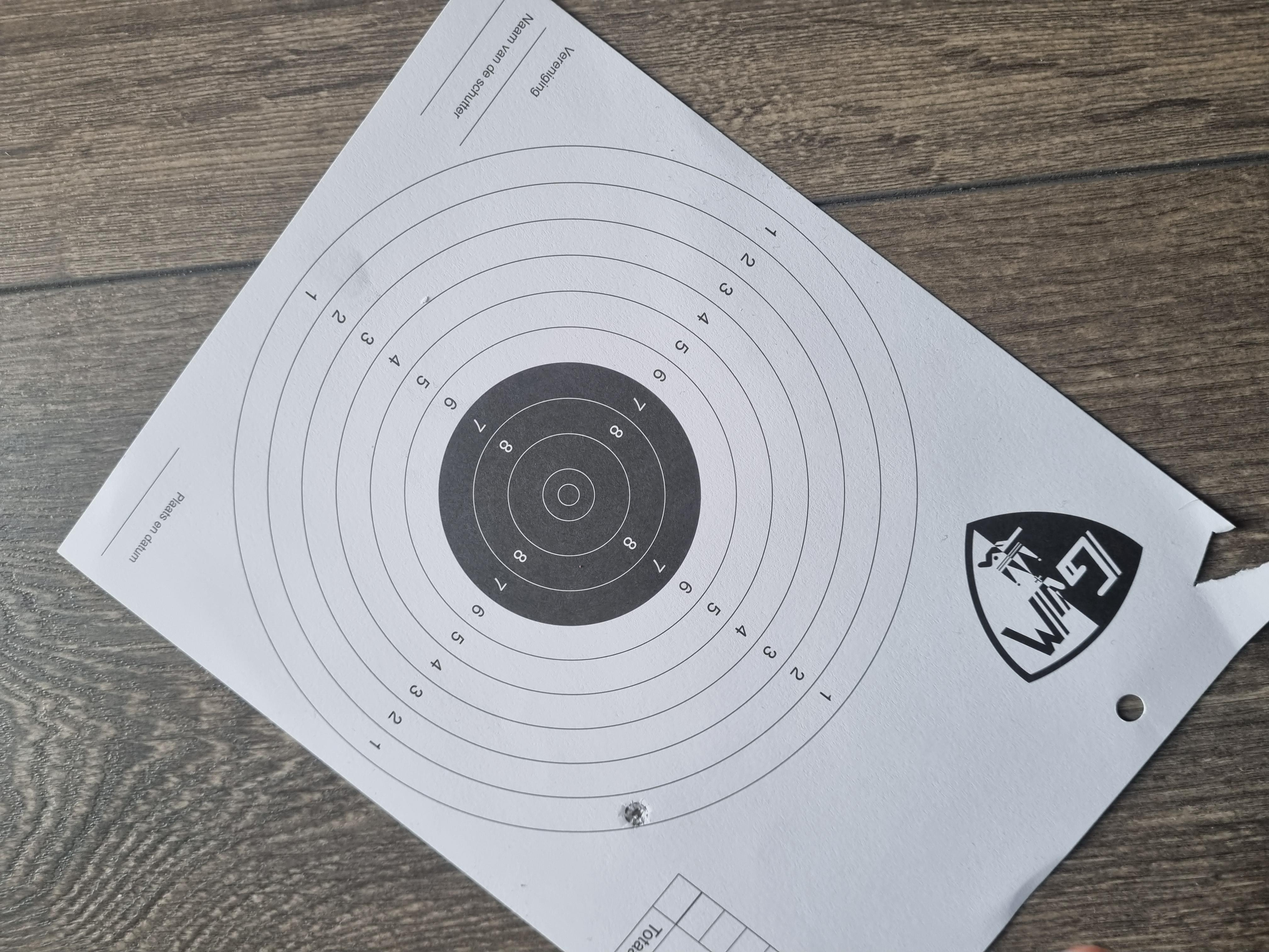hole: (166, 465, 204, 487)
